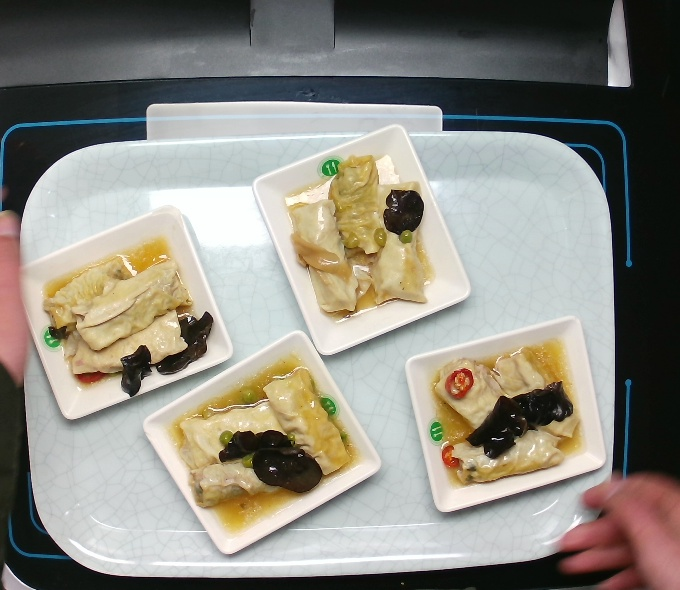wcq-QianZhangBao: (166, 348, 362, 536), (37, 232, 216, 400), (277, 149, 443, 325), (425, 335, 588, 492)
